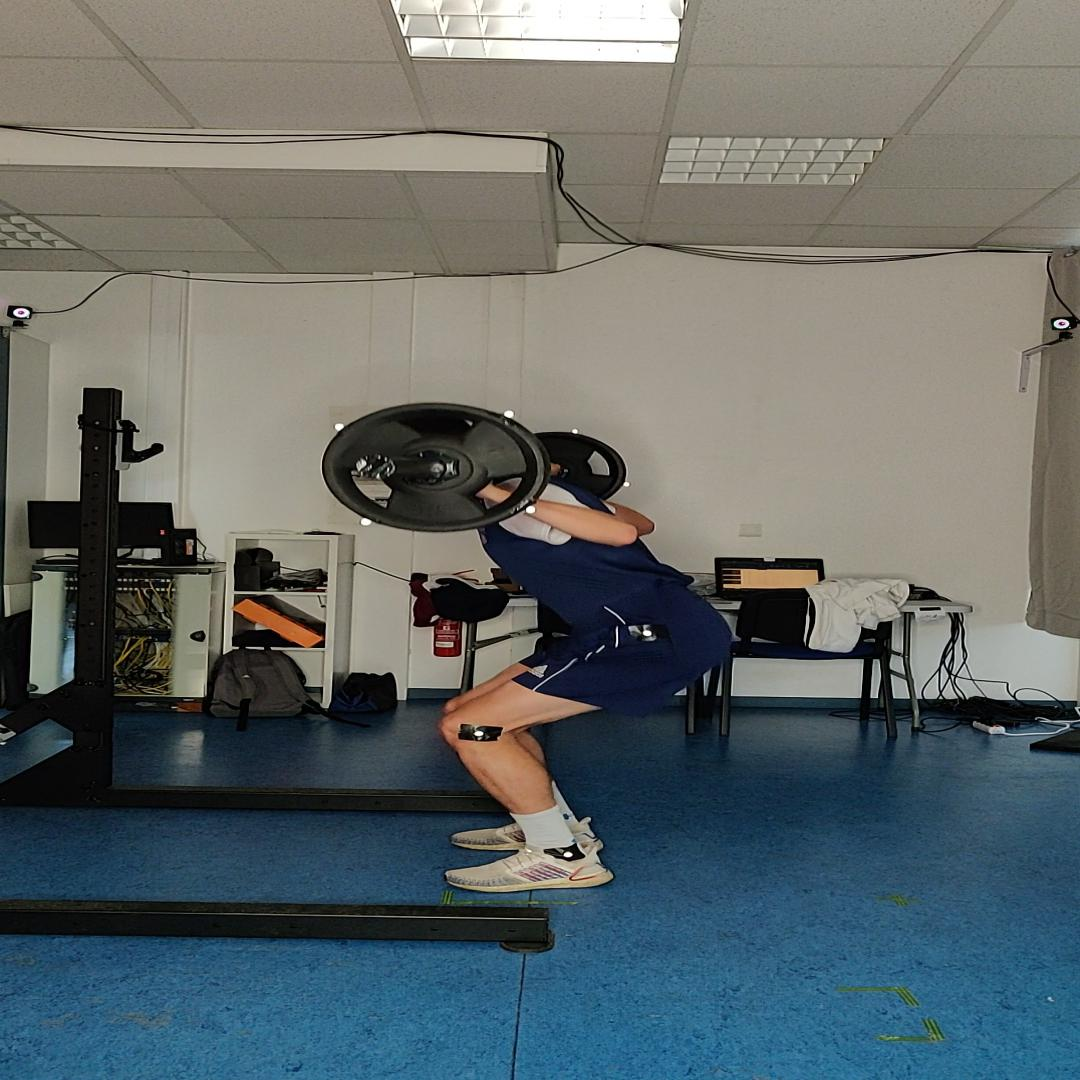Bar: (355, 454, 398, 480)
Barbell: (321, 402, 552, 533)
